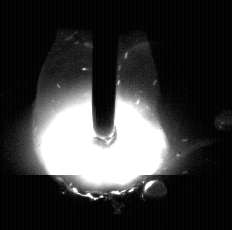arame: (92, 0, 117, 147)
poca: (33, 0, 170, 230)
